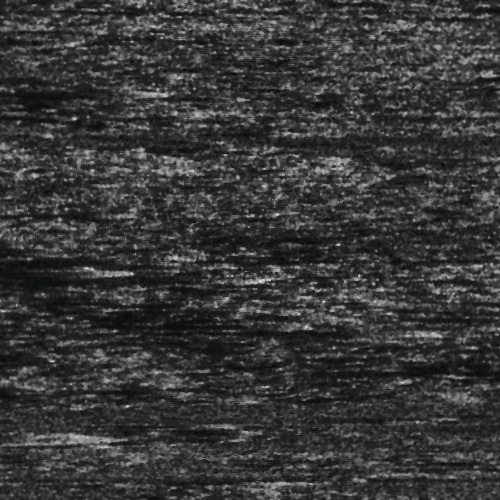object: (0, 427, 128, 442), (350, 325, 465, 334), (78, 263, 151, 274), (30, 33, 103, 44), (95, 88, 168, 93)
shadow: (0, 263, 114, 274), (357, 365, 500, 372), (298, 325, 407, 334), (0, 427, 56, 442), (0, 33, 66, 44), (2, 88, 131, 93)
